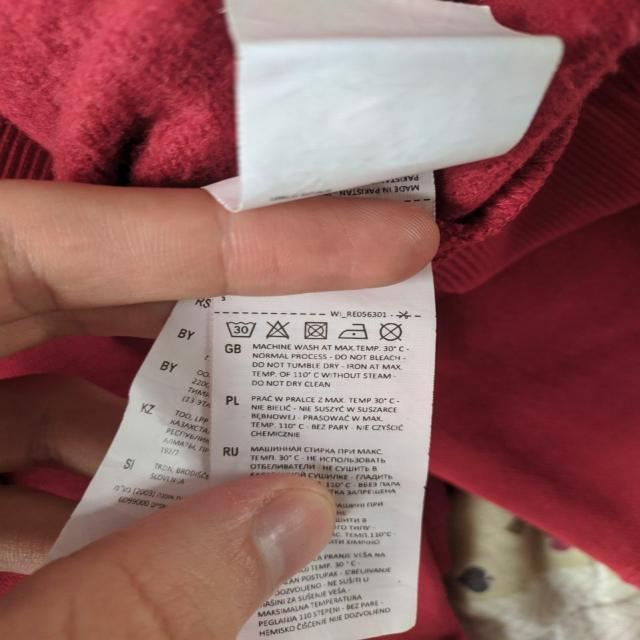30C: (224, 313, 259, 340)
DN_bleach: (265, 316, 293, 340)
DN_dry_clean: (378, 320, 406, 343)
DN_tumble_dry: (302, 318, 331, 340)
iron_low: (338, 319, 370, 342)
